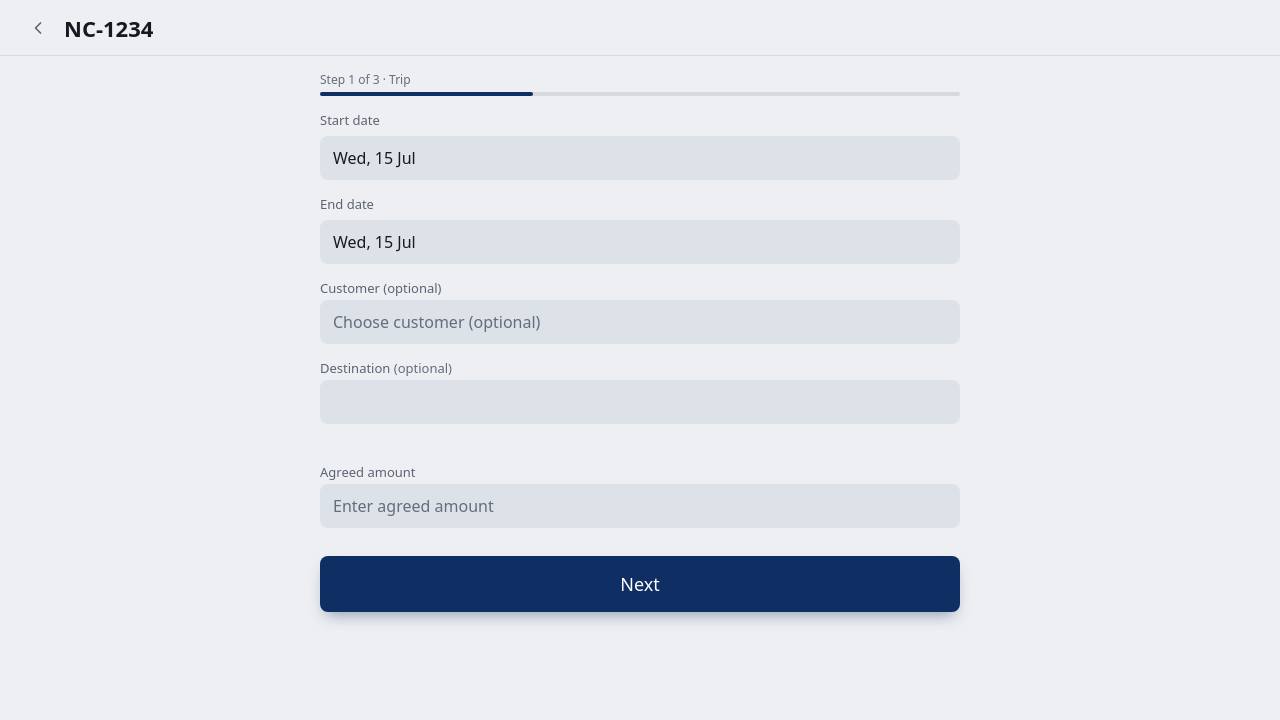
Scenario: GAP-101 (Mode 3): a failed paperwork read shows a warning on the confirm step, never silently nothing
Step 1. Click the button "Next" → (640, 584), box [320, 556, 960, 612]
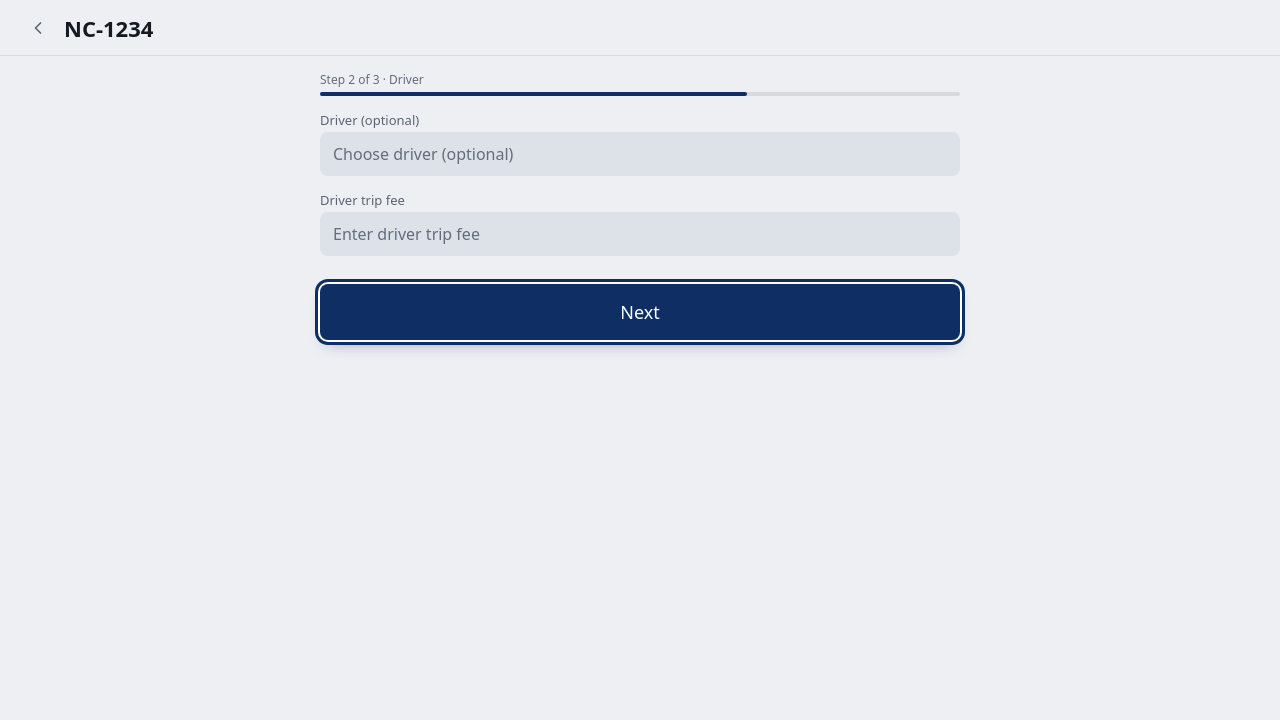
Step 2. Click the button "Next" → (640, 312), box [320, 284, 960, 340]
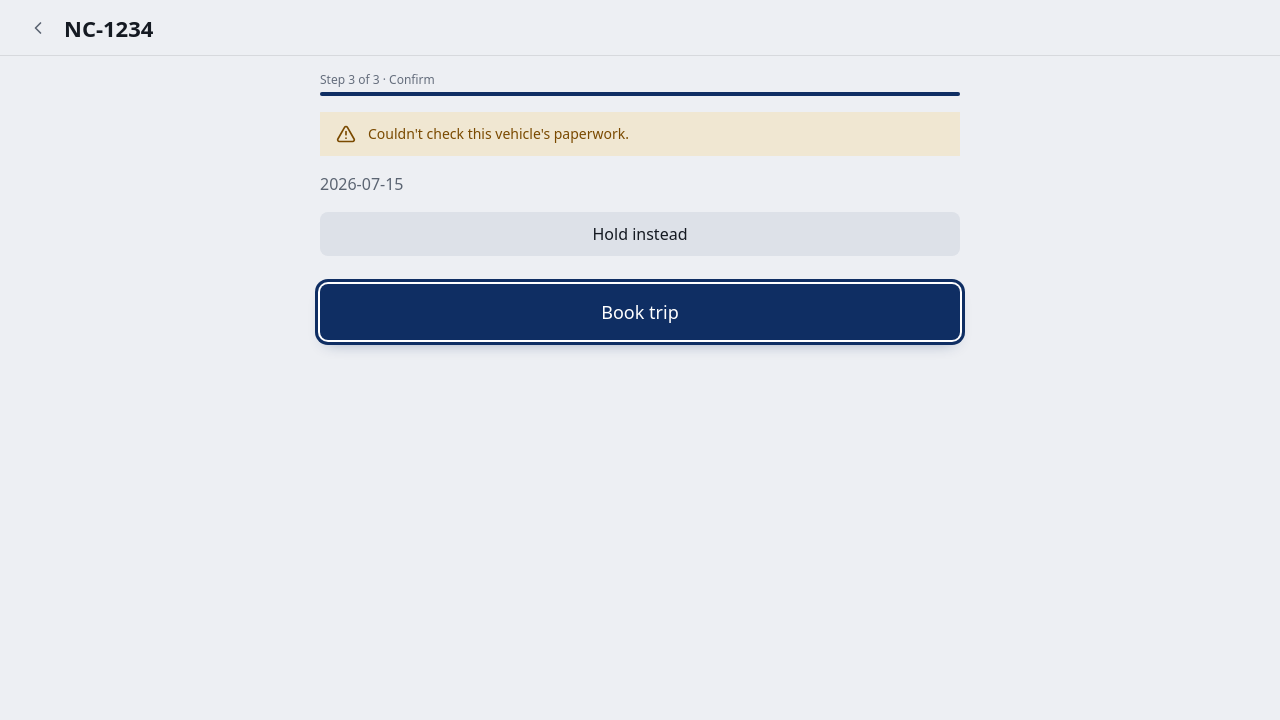
Expected: the text "Couldn't check this vehicle's paperwork." is shown, [368, 124, 629, 143]
